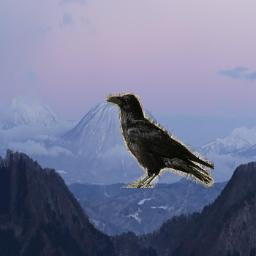Crow: (106, 93, 214, 188)
